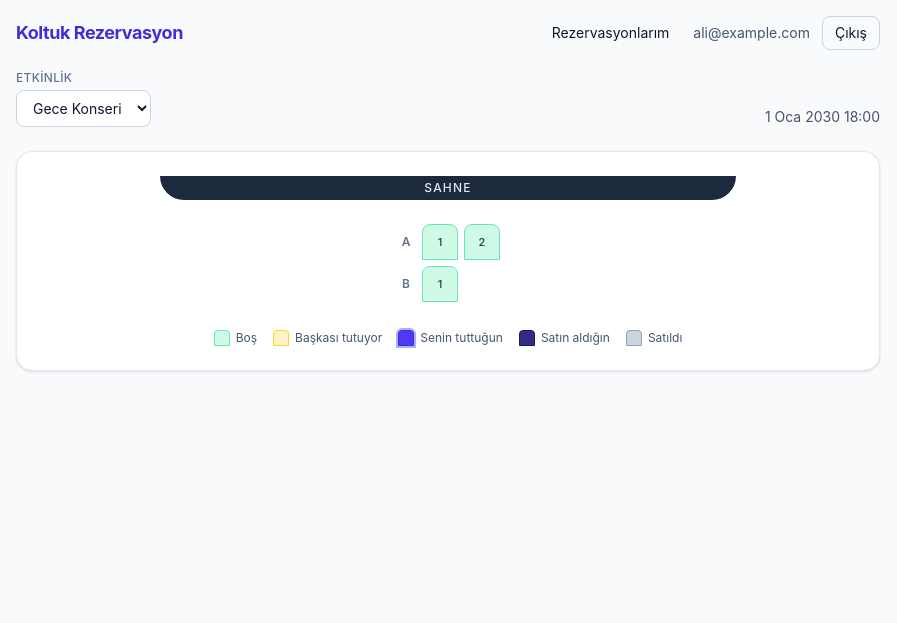
koltuk tutma ve onaylama akışı › koltuğu tutar, geri sayımı gösterir, onaylayınca koltuk "senin koltuğun" olur
The image size is (897, 623).
Click the button named "A2, boş" at (482, 242), box left=464, top=224, right=500, bottom=260
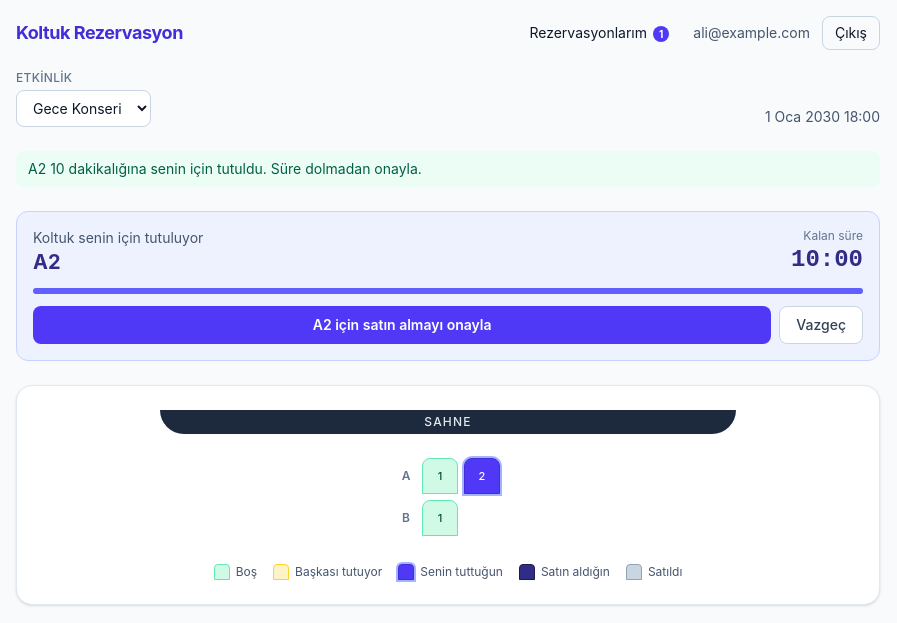
Expected: the text named "A2 için kalan süre" reads "10:00", left=791, top=246, right=863, bottom=273
Expected: the button named "A2, senin için tutuldu" is shown, left=464, top=458, right=500, bottom=494
Click the button "A2 için satın almayı onayla" at (402, 325), box left=33, top=306, right=771, bottom=344
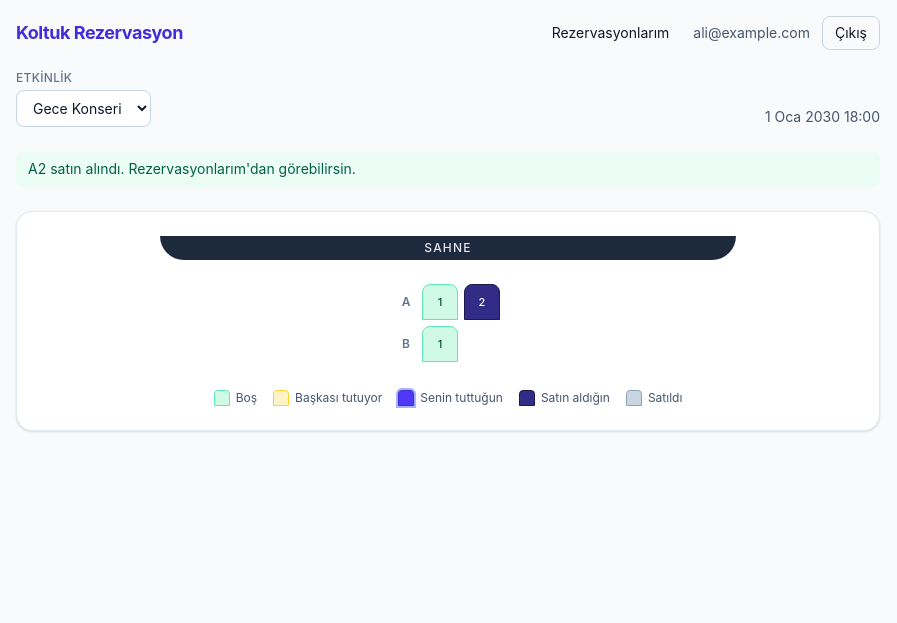
Expected: the button named "A2, senin koltuğun" is shown, left=464, top=284, right=500, bottom=320
Expected: the message shows "A2 satın alındı", left=28, top=160, right=356, bottom=177
